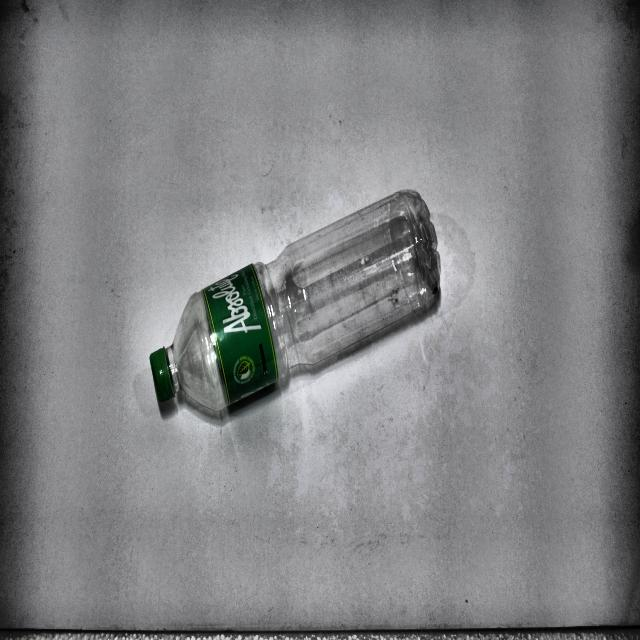Bottles: (146, 182, 445, 416)
